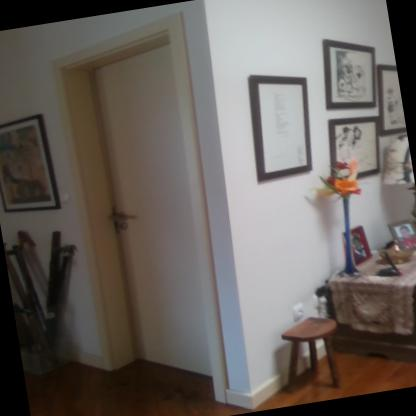closed: (34, 21, 252, 412)
